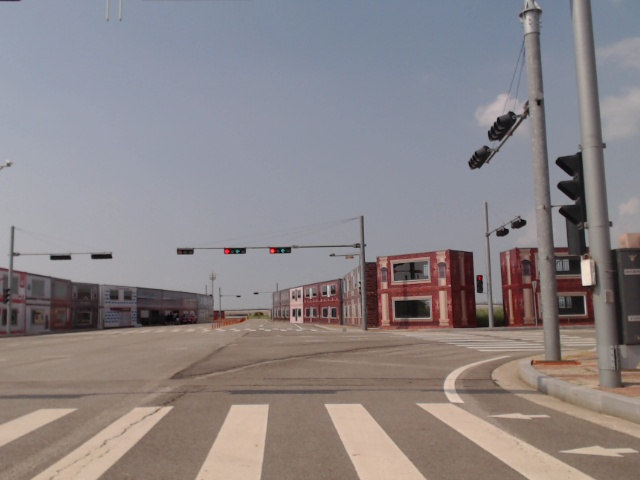left_green_4: (224, 248, 246, 254), (269, 248, 292, 253)
